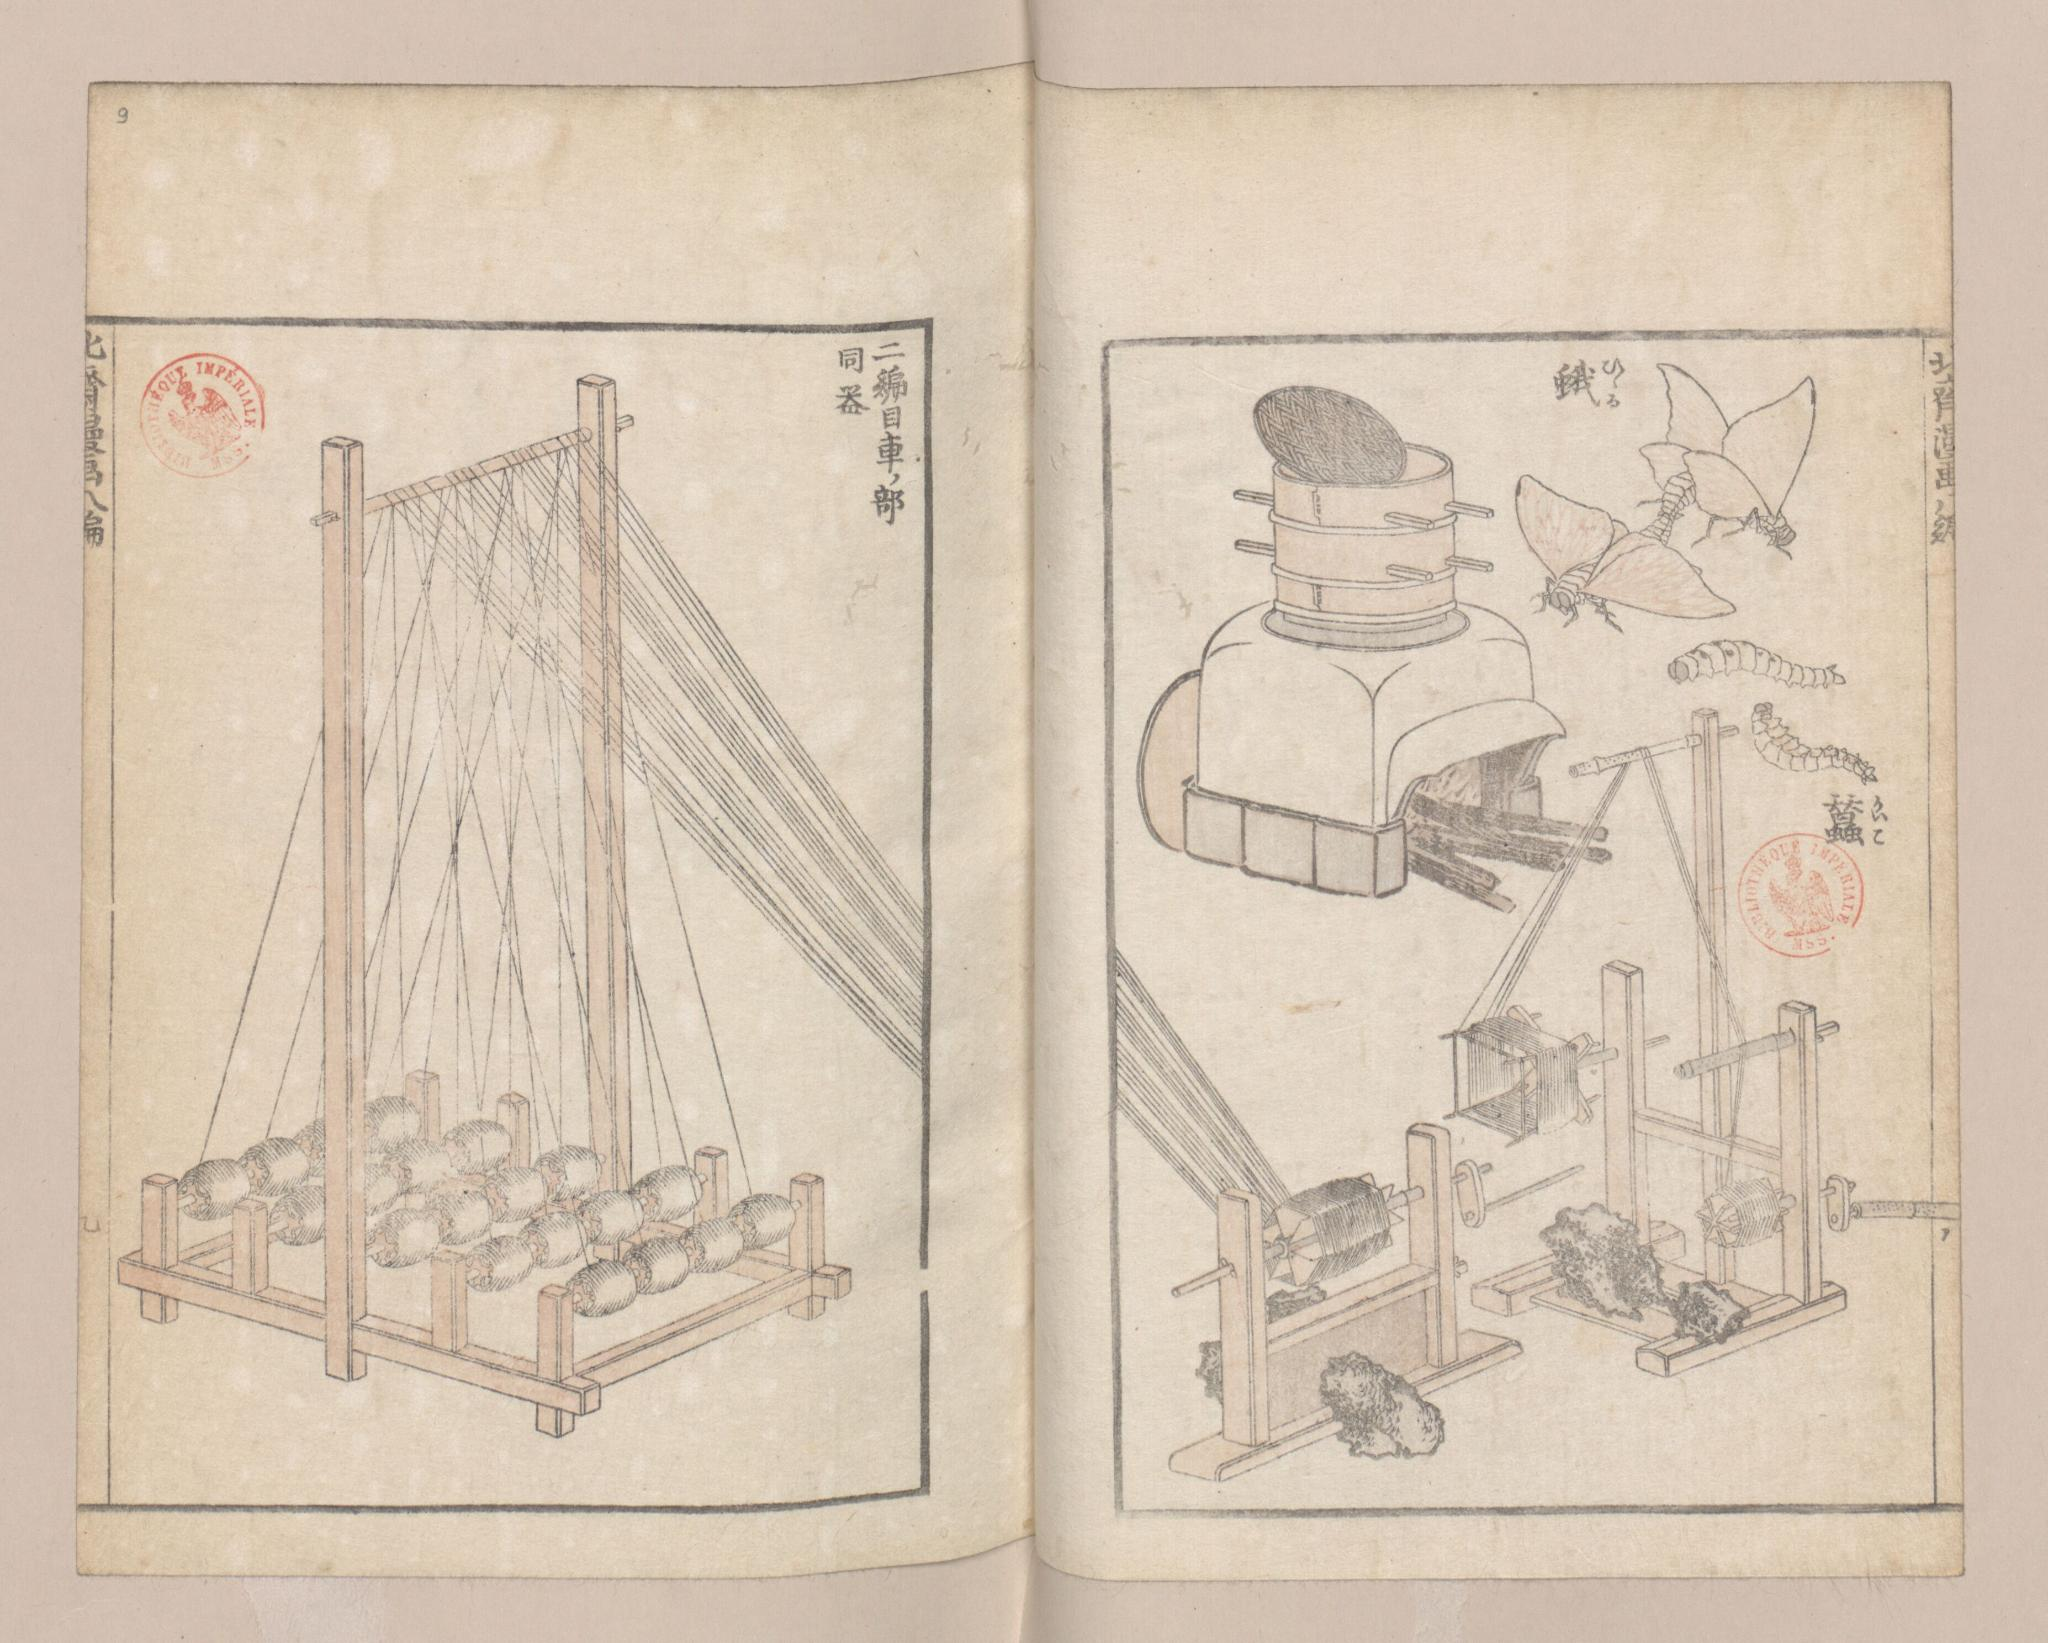MainZone-Character: (1550, 349, 1629, 414), (1823, 786, 1890, 847)
MainZone-Ruby: (1599, 357, 1626, 409), (1867, 795, 1889, 845)
